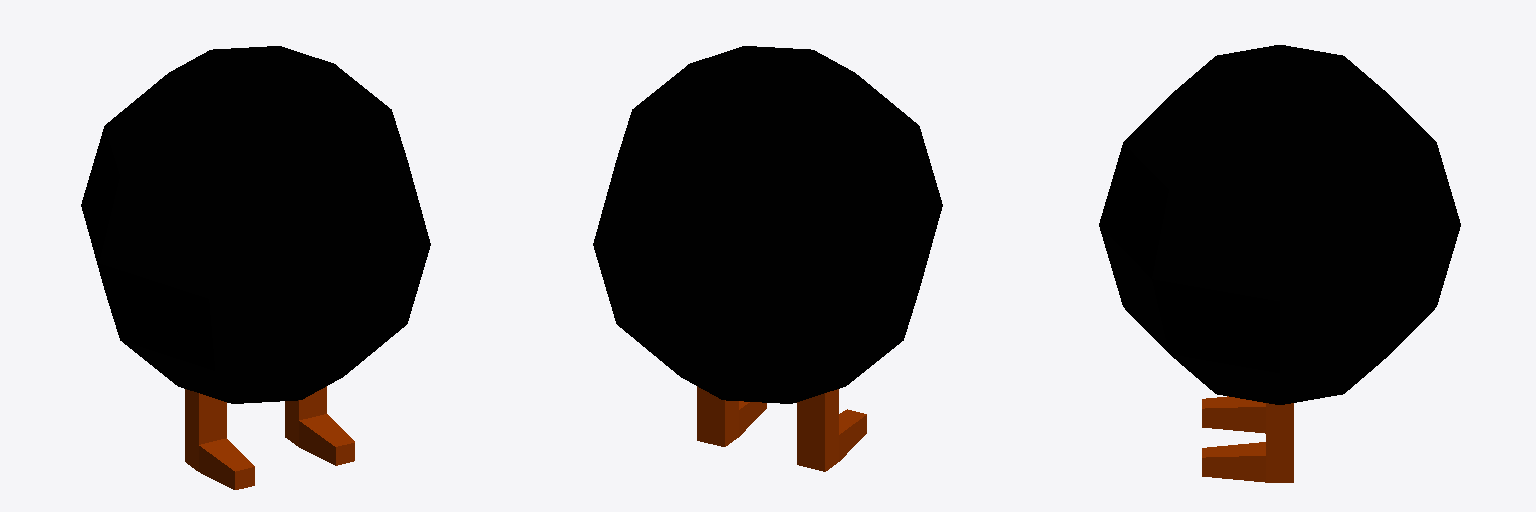
Rendered from forkie.obj.
3 renders of one model, left to right at view 1: azimuth 30°, elevation 25°; view 2: azimuth 150°, elevation 25°; view 3: azimuth 270°, elevation 25°, orthographic.
Visible parts, largest first — view 1: Sphere, Cube_Cube.001; view 2: Sphere, Cube_Cube.001; view 3: Sphere, Cube_Cube.001.
Part boxes in pixels (x1,y1,x2,y2): Sphere: (81,46,430,403); Cube_Cube.001: (185,386,354,489); Sphere: (593,46,942,403); Cube_Cube.001: (697,386,866,471); Sphere: (1099,45,1460,404); Cube_Cube.001: (1202,396,1293,482).
Size of the model in its own units: 2 by 2.38 by 2.